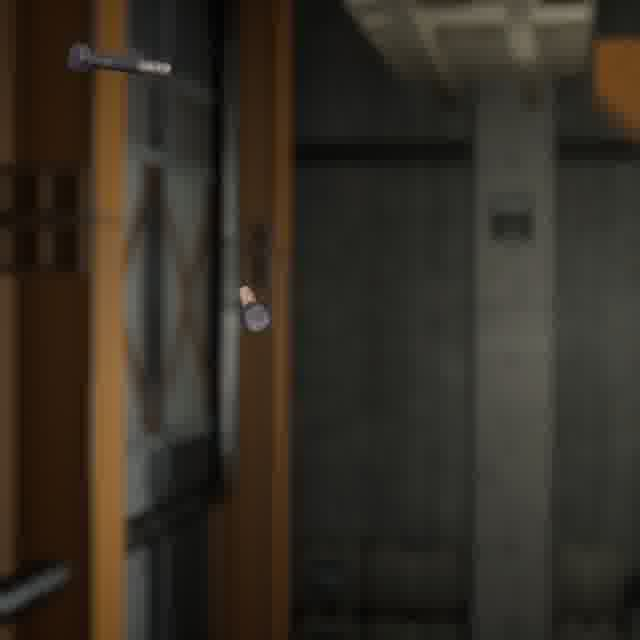bolt: (63, 39, 175, 81), (233, 281, 275, 338)
